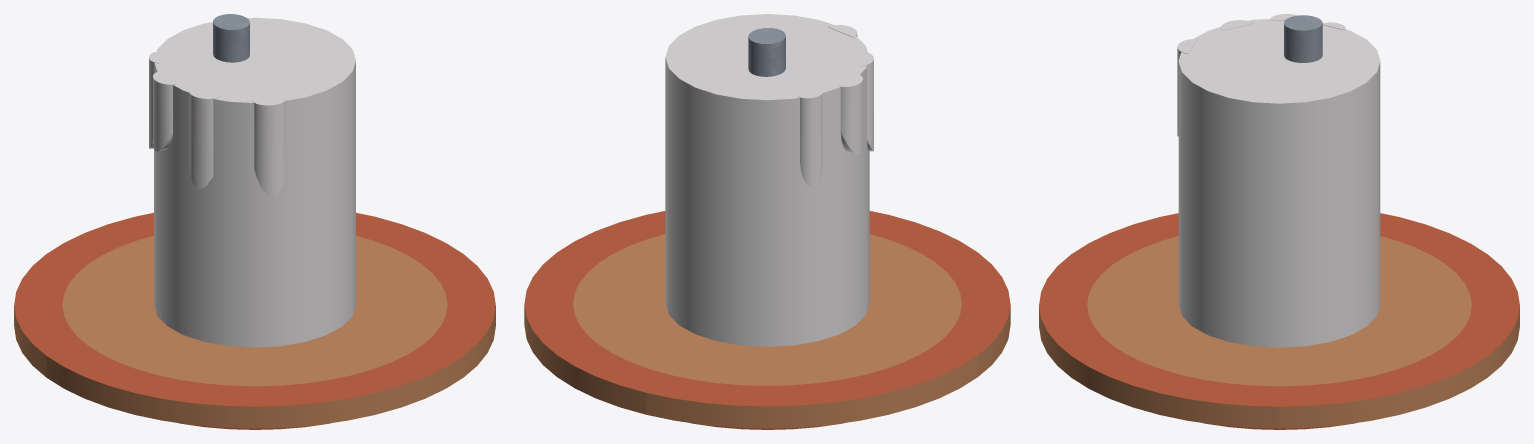
Rendered from candle.fbx.
3 renders of one model, left to right at view 1: azimuth 30°, elevation 25°; view 2: azimuth 150°, elevation 25°; view 3: azimuth 270°, elevation 25°, orthographic.
Visible parts, largest first — view 1: porch_floorCornerCurve% (×4), cylinder (×2), detail_pipeEndSmall (×4); view 2: porch_floorCornerCurve% (×4), cylinder (×2), detail_pipeEndSmall (×3); view 3: cylinder (×2), porch_floorCornerCurve% (×4).
Part boxes in pixels (x1,y1,x2,y2): porch_floorCornerCurve% (×4): [14, 212, 495, 429]; cylinder (×2): [154, 14, 355, 347]; detail_pipeEndSmall (×4): [149, 51, 286, 196]; porch_floorCornerCurve% (×4): [524, 211, 1010, 429]; cylinder (×2): [665, 14, 869, 346]; detail_pipeEndSmall (×3): [798, 51, 873, 189]; cylinder (×2): [1178, 15, 1380, 347]; porch_floorCornerCurve% (×4): [1039, 213, 1519, 429].
Bounding box in the file's own units: 10 × 7.34 × 10.
